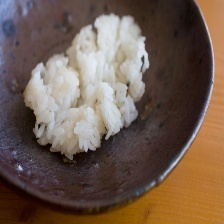rice: (21, 9, 155, 163)
